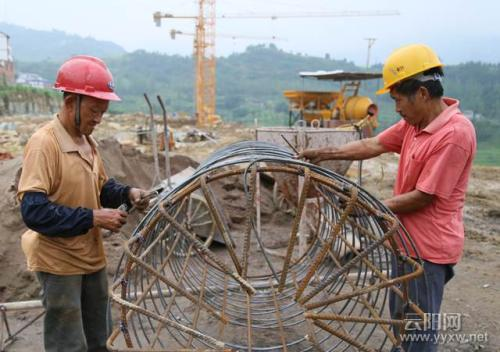hard-hat: (375, 44, 444, 94), (51, 54, 122, 101)
person: (295, 44, 477, 352), (16, 55, 155, 352)
